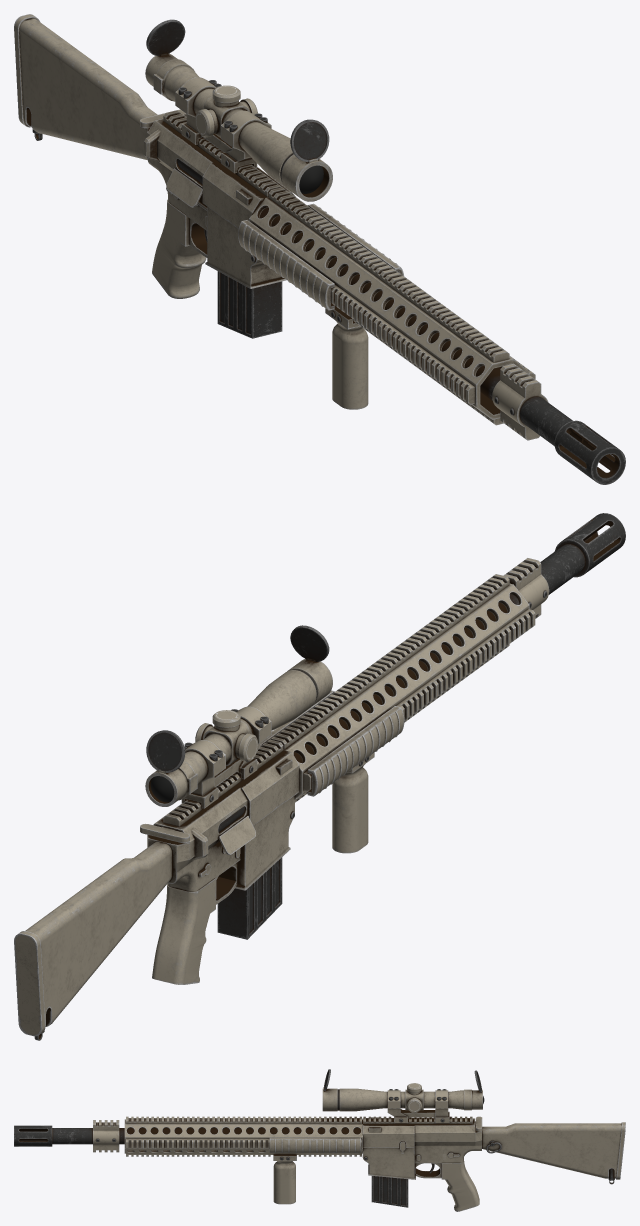
The model's file is m170_sniper_rifle.glb.
3 renders of one model, top to bottom at view 1: azimuth 30°, elevation 25°; view 2: azimuth 150°, elevation 25°; view 3: azimuth 270°, elevation 25°, orthographic. The views are drawn at different scales.
Parts seen in each view (by area): view 1: StockModel, MainBodyModel, RailBodyModel, ScopeModel, Rail1Model, SideGripsModel, CartridgeModel, GripHandleModel, Rail4Model, BarrelModel, VerticalGripModel, MusselModel (+6 smaller); view 2: StockModel, MainBodyModel, RailBodyModel, ScopeModel, Rail1Model, GripHandleModel, SideGripsModel, Rail4Model, CartridgeModel, VerticalGripModel, BarrelModel, ScopeSupportModel (+6 smaller); view 3: StockModel, MainBodyModel, RailBodyModel, ScopeModel, BarrelModel, Rail1Model, SideGripsModel, Rail2Model, GripHandleModel, ScopeSupportModel, CartridgeModel, VerticalGripModel (+5 smaller).
Boxes of the visible parts, x1,y1,x2,y2 form: StockModel: (14, 14, 157, 160); MainBodyModel: (143, 114, 295, 288); RailBodyModel: (249, 197, 529, 419); ScopeModel: (145, 52, 332, 201); Rail1Model: (268, 187, 509, 362); SideGripsModel: (238, 203, 403, 310); CartridgeModel: (217, 271, 282, 338); GripHandleModel: (152, 199, 206, 298); Rail4Model: (331, 284, 474, 404); BarrelModel: (271, 216, 583, 445); VerticalGripModel: (332, 321, 368, 409); MusselModel: (554, 420, 625, 484); StockModel: (14, 841, 172, 1036); MainBodyModel: (147, 744, 299, 904); RailBodyModel: (283, 583, 529, 799); ScopeModel: (145, 658, 332, 806); Rail1Model: (270, 574, 509, 749); GripHandleModel: (152, 878, 216, 984); SideGripsModel: (260, 690, 404, 796); Rail4Model: (303, 609, 535, 791); CartridgeModel: (217, 857, 282, 939); VerticalGripModel: (332, 764, 368, 853); BarrelModel: (293, 544, 585, 762); ScopeSupportModel: (181, 706, 271, 808); StockModel: (482, 1122, 625, 1179); MainBodyModel: (362, 1117, 481, 1179); RailBodyModel: (124, 1119, 362, 1153); ScopeModel: (322, 1087, 482, 1111); BarrelModel: (52, 1128, 360, 1144); Rail1Model: (126, 1116, 361, 1123); SideGripsModel: (269, 1137, 360, 1152); Rail2Model: (126, 1139, 361, 1148); GripHandleModel: (441, 1158, 479, 1211); ScopeSupportModel: (387, 1090, 449, 1123); CartridgeModel: (371, 1176, 408, 1207); VerticalGripModel: (273, 1161, 295, 1204).
Size of the model in its own units: 0.1636 by 0.5144 by 2.05.
6 materials, 6 textured.
